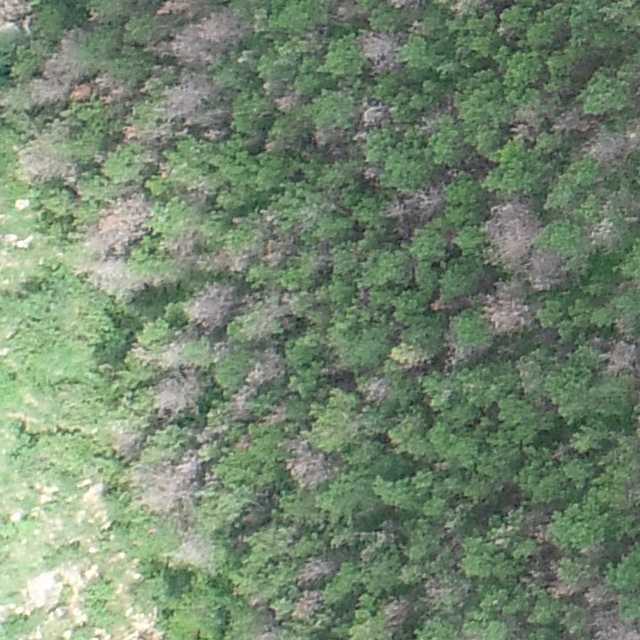unhealthy: (158, 7, 246, 68), (480, 194, 539, 270), (131, 453, 201, 515), (84, 191, 152, 253), (162, 71, 220, 124), (14, 140, 76, 184), (184, 282, 235, 333), (150, 371, 204, 417), (77, 256, 138, 295), (481, 287, 531, 332), (42, 27, 86, 78), (284, 446, 332, 489), (357, 29, 401, 73), (525, 248, 567, 291), (169, 532, 215, 571), (245, 348, 287, 387), (586, 130, 630, 165), (600, 336, 639, 375), (164, 225, 200, 266), (89, 72, 135, 104), (406, 183, 443, 222), (420, 571, 460, 604), (0, 0, 36, 36), (107, 421, 141, 458), (295, 555, 336, 585), (121, 122, 167, 148), (592, 614, 638, 640), (381, 592, 415, 627), (549, 107, 591, 135), (312, 124, 348, 156), (586, 217, 618, 251), (293, 588, 326, 620), (155, 338, 188, 369), (509, 106, 538, 141), (29, 78, 66, 105), (261, 236, 294, 266), (358, 99, 390, 128), (228, 387, 256, 420), (362, 375, 392, 404), (155, 0, 200, 18), (584, 583, 616, 608), (331, 0, 365, 22), (224, 248, 251, 274), (549, 576, 579, 599), (194, 423, 225, 444), (273, 91, 302, 113), (263, 399, 288, 424), (624, 116, 640, 154), (69, 81, 95, 101), (248, 625, 283, 639), (383, 197, 404, 219), (381, 0, 423, 10), (199, 127, 228, 141), (210, 340, 226, 363), (360, 165, 379, 182)
